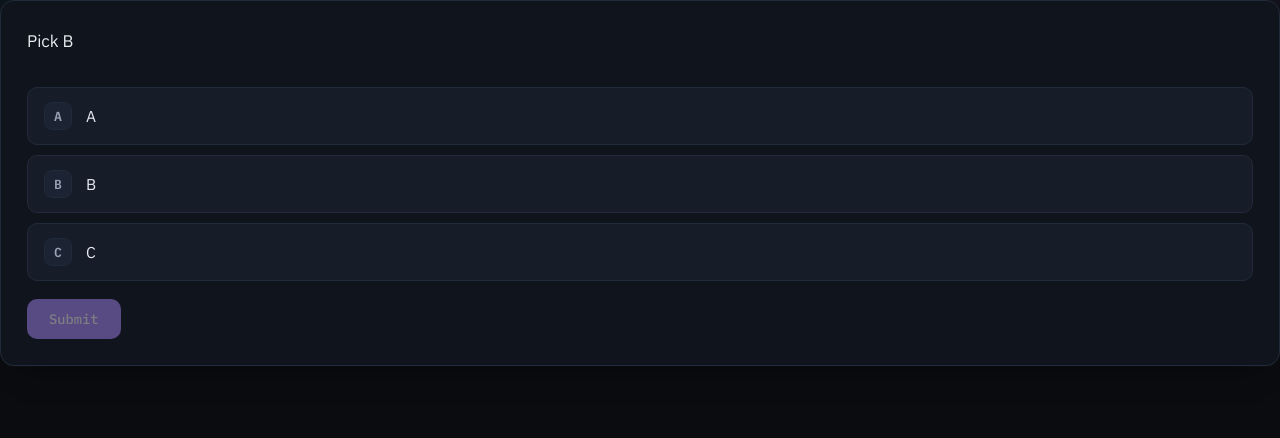
Test case: QuestionCard (multiple-choice) › grades a correct answer and shows the explanation
This screenshot has width=1280, height=438.
Click the button "B".
click(91, 184)  # box [27,156,1253,214]
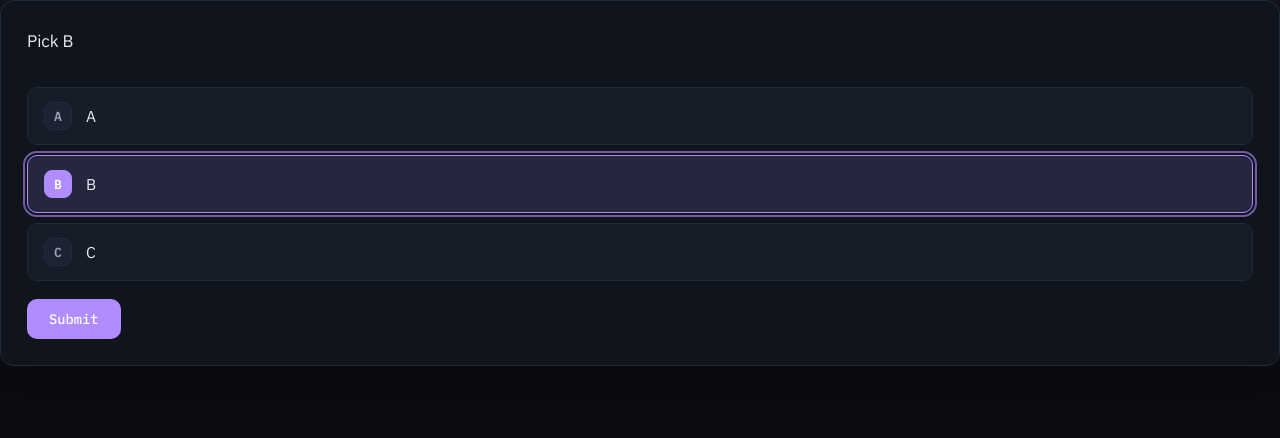
Click the button "Submit".
click(74, 320)  # box [27,300,120,340]
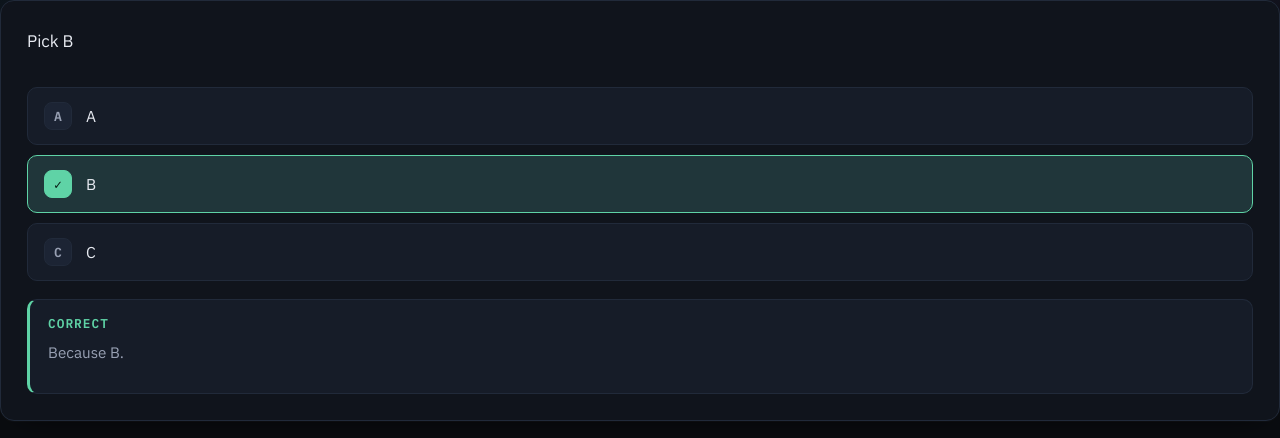
Check: the text "Because B." is shown, box [48,342,124,362]
Check: the text "Correct" is shown, box [48,316,109,332]
